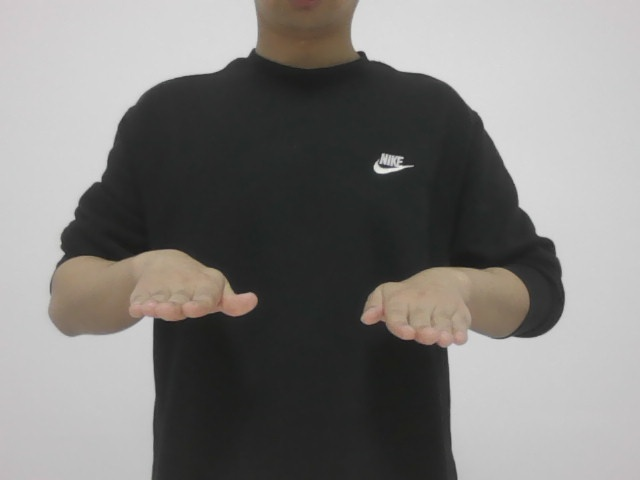flat: (123, 238, 470, 356)
